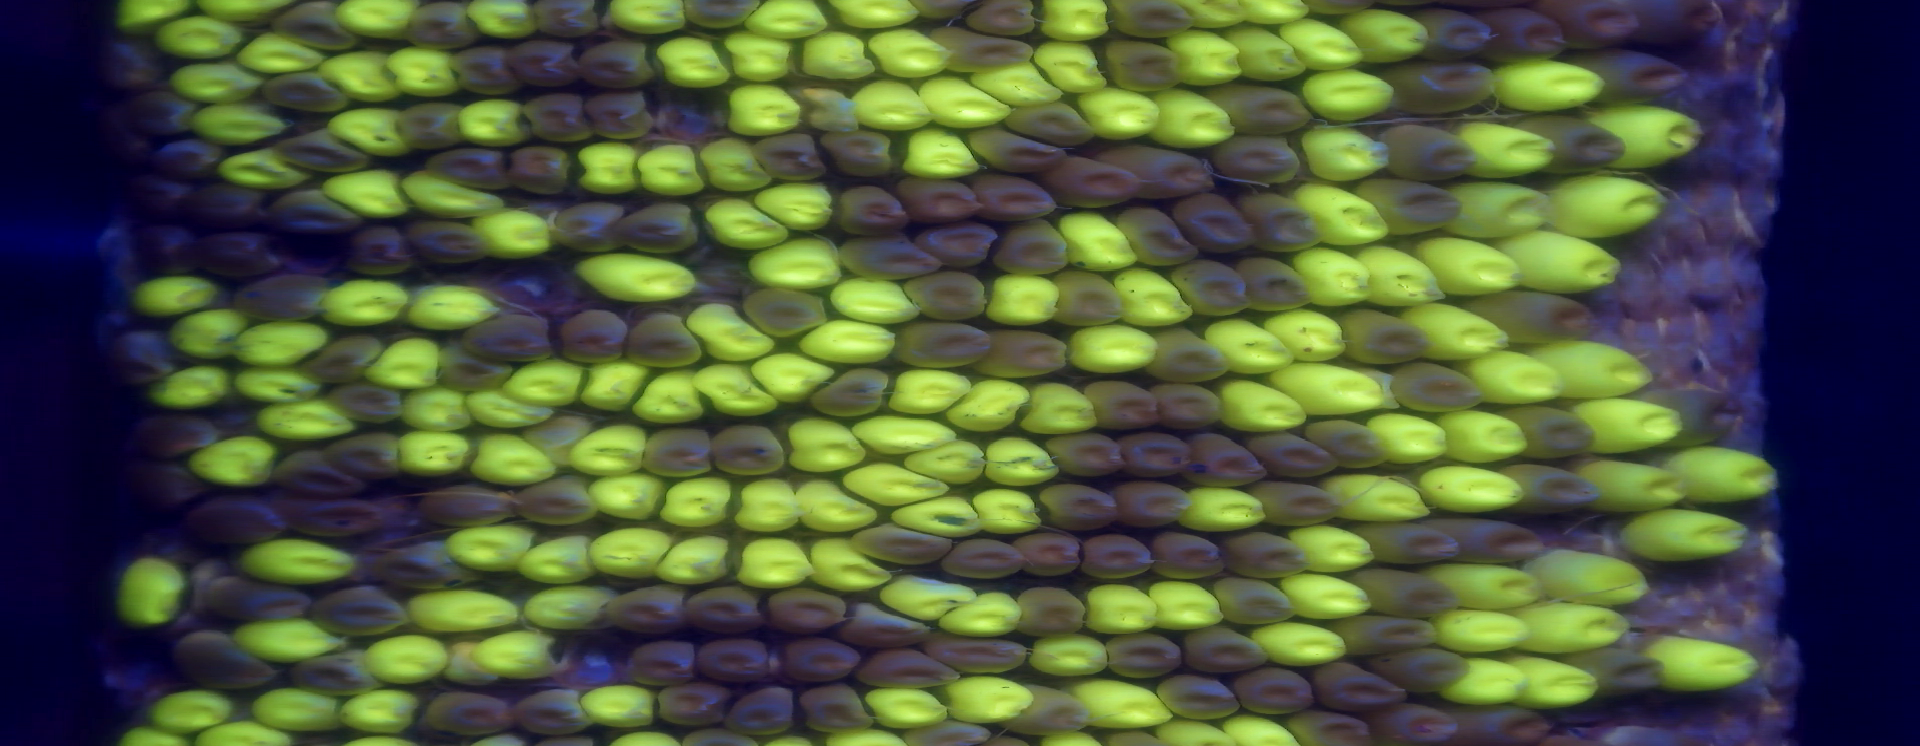fluorescent: (1518, 548, 1654, 614), (1498, 225, 1622, 296), (1658, 443, 1782, 510), (562, 249, 703, 304), (1584, 107, 1703, 171), (1409, 235, 1528, 300), (1615, 512, 1749, 567), (1644, 633, 1763, 695), (1318, 463, 1434, 526), (1269, 359, 1389, 419), (1543, 178, 1660, 239), (1531, 341, 1658, 396), (1291, 183, 1398, 247), (1489, 61, 1614, 116), (1564, 461, 1687, 516), (1400, 298, 1512, 358), (1511, 601, 1631, 658), (1453, 119, 1558, 184), (1424, 560, 1549, 612), (1567, 399, 1686, 454), (1063, 673, 1176, 730), (747, 345, 838, 416), (746, 233, 845, 295), (1445, 183, 1551, 240), (235, 537, 356, 587), (108, 556, 190, 630), (398, 168, 507, 223), (1145, 87, 1239, 149), (1298, 125, 1392, 187), (1283, 521, 1379, 582), (915, 75, 1014, 134), (1357, 245, 1450, 307), (1434, 401, 1527, 463), (801, 312, 898, 372), (362, 333, 448, 401), (398, 588, 525, 633), (1505, 652, 1603, 710), (1457, 352, 1564, 405), (683, 304, 780, 363), (689, 363, 784, 423), (1058, 209, 1145, 274), (1205, 317, 1297, 379), (1416, 461, 1524, 512), (227, 612, 342, 660), (191, 102, 305, 149), (793, 477, 884, 537), (1289, 247, 1381, 306), (1211, 377, 1309, 432), (899, 125, 992, 183), (186, 432, 280, 489), (397, 283, 502, 333), (1224, 23, 1309, 86), (1160, 26, 1245, 87), (1109, 267, 1196, 327), (1427, 608, 1536, 655), (1074, 83, 1162, 142), (965, 62, 1070, 111), (471, 627, 564, 682), (234, 318, 331, 371), (317, 50, 405, 108), (320, 108, 418, 159), (564, 420, 651, 478), (1333, 13, 1433, 64), (1277, 570, 1374, 621), (242, 687, 347, 735), (1270, 307, 1354, 366), (458, 383, 558, 432), (1176, 486, 1273, 537), (853, 414, 959, 461), (473, 431, 556, 490), (1363, 410, 1453, 464), (732, 529, 812, 590), (936, 584, 1024, 639), (141, 363, 238, 413), (1020, 633, 1117, 684), (945, 376, 1026, 436), (585, 526, 675, 579), (851, 81, 938, 136), (844, 464, 947, 511), (444, 521, 538, 572), (320, 278, 411, 330), (942, 676, 1033, 728), (571, 679, 662, 730), (1027, 40, 1109, 98), (811, 532, 889, 592), (359, 633, 452, 684), (1299, 71, 1400, 118), (1247, 622, 1349, 668), (255, 401, 360, 445), (866, 26, 948, 82), (792, 36, 887, 85), (752, 178, 838, 232), (1276, 17, 1365, 69), (877, 576, 972, 624), (984, 271, 1065, 327), (1067, 325, 1167, 370), (628, 143, 710, 198), (722, 82, 804, 137), (503, 356, 585, 412), (889, 370, 972, 424), (1080, 582, 1163, 636), (700, 135, 771, 197), (655, 36, 733, 92), (632, 367, 705, 428), (391, 426, 471, 480), (164, 61, 268, 103), (733, 473, 803, 534), (230, 363, 327, 407), (1022, 379, 1093, 439), (1441, 655, 1526, 706), (588, 472, 670, 523), (736, 1, 831, 45), (705, 195, 785, 247), (1149, 578, 1224, 633), (324, 169, 408, 219), (514, 532, 598, 582), (571, 141, 643, 198), (719, 33, 800, 85), (528, 581, 615, 628), (167, 306, 249, 356), (860, 684, 945, 731), (231, 34, 329, 76), (904, 443, 991, 490), (659, 477, 733, 530), (785, 420, 864, 470), (216, 145, 309, 187), (333, 1, 422, 45), (829, 279, 918, 323), (147, 686, 236, 729), (339, 687, 424, 733), (577, 356, 640, 416), (474, 206, 553, 254), (454, 97, 529, 147), (400, 383, 476, 432), (389, 49, 462, 100), (891, 495, 980, 537), (153, 20, 244, 60), (659, 535, 733, 584), (131, 276, 218, 317), (984, 439, 1057, 488), (1041, 1, 1116, 44), (820, 1, 920, 33), (966, 488, 1035, 532), (103, 1, 193, 34), (605, 1, 696, 34), (467, 1, 545, 37), (192, 720, 296, 746), (1223, 715, 1307, 746), (1180, 1, 1254, 31), (195, 1, 295, 22), (1162, 719, 1233, 746), (1232, 1, 1311, 22)
nonfluorescent: (1468, 283, 1599, 345), (170, 627, 280, 693), (1096, 143, 1216, 202), (1358, 170, 1461, 238), (1516, 111, 1622, 175), (889, 317, 996, 379), (1640, 386, 1747, 446), (1378, 121, 1480, 184), (1332, 303, 1434, 365), (1385, 61, 1498, 118), (1209, 80, 1315, 138), (1500, 405, 1603, 465), (273, 485, 386, 539), (312, 578, 411, 638), (1000, 96, 1108, 151), (198, 570, 311, 622), (1351, 565, 1463, 617), (1502, 457, 1605, 514), (971, 323, 1068, 383), (1351, 517, 1461, 570), (1116, 198, 1195, 271), (1480, 4, 1572, 66), (228, 271, 336, 323), (1438, 514, 1547, 566), (1174, 624, 1273, 680), (1146, 325, 1236, 387), (1311, 659, 1408, 717), (1046, 153, 1140, 212), (184, 492, 287, 546), (1240, 428, 1348, 479), (816, 122, 906, 183), (1629, 1, 1720, 60), (922, 631, 1035, 679), (986, 220, 1075, 281), (1202, 134, 1307, 185), (1567, 650, 1671, 702), (1583, 51, 1692, 100), (1150, 669, 1244, 725), (609, 577, 694, 638), (411, 481, 518, 530), (1007, 680, 1093, 740), (1178, 194, 1258, 258), (921, 24, 1035, 70), (1386, 360, 1484, 413), (1182, 428, 1267, 488), (901, 269, 992, 326), (853, 518, 953, 570), (1227, 663, 1315, 720), (1375, 643, 1471, 696), (1242, 191, 1318, 257), (256, 186, 364, 233), (855, 646, 965, 691), (1036, 479, 1127, 534), (626, 312, 707, 374), (938, 532, 1030, 586), (740, 284, 829, 339), (1300, 416, 1390, 472), (811, 363, 893, 423), (1234, 250, 1311, 314), (1168, 260, 1251, 318), (513, 472, 601, 527), (1411, 10, 1499, 65), (1330, 609, 1440, 653), (272, 2, 369, 53), (1206, 576, 1296, 630), (369, 545, 478, 589), (549, 201, 636, 256), (612, 198, 699, 254), (404, 214, 490, 269), (640, 423, 718, 484), (1102, 36, 1189, 89), (1074, 530, 1161, 584), (1104, 628, 1189, 684), (1220, 530, 1311, 581), (969, 169, 1058, 220), (578, 36, 661, 91), (444, 44, 528, 99), (1453, 704, 1564, 746), (1108, 478, 1195, 530), (1551, 1, 1638, 54), (965, 125, 1071, 168), (126, 409, 220, 457), (272, 450, 371, 495), (836, 238, 944, 279), (1051, 271, 1127, 330), (187, 232, 283, 278), (462, 314, 555, 361), (422, 687, 516, 735), (519, 89, 598, 146), (774, 633, 866, 681), (797, 684, 880, 736), (759, 584, 849, 633), (503, 39, 588, 91), (653, 680, 737, 731), (1089, 376, 1161, 436), (684, 579, 767, 632), (323, 431, 405, 484), (711, 418, 785, 477), (583, 88, 662, 142), (749, 132, 828, 186), (691, 635, 773, 686), (1007, 528, 1089, 579), (1116, 429, 1198, 480), (1149, 530, 1228, 583), (287, 650, 378, 696), (94, 99, 156, 167), (556, 310, 624, 370), (273, 130, 375, 170), (425, 148, 516, 194), (129, 223, 204, 277), (405, 1, 482, 54), (1046, 429, 1123, 481), (307, 333, 388, 383), (1373, 699, 1460, 746), (898, 175, 982, 223), (836, 184, 912, 236), (721, 686, 798, 737), (1011, 589, 1090, 639), (129, 459, 207, 510), (911, 223, 999, 267), (261, 70, 351, 113), (624, 642, 702, 692), (105, 332, 180, 383), (509, 688, 596, 733), (435, 343, 511, 393), (1107, 1, 1195, 44), (845, 601, 936, 643), (1258, 477, 1336, 524), (1149, 382, 1224, 431), (509, 141, 577, 195), (396, 103, 468, 153), (129, 89, 197, 142), (332, 376, 400, 429), (96, 32, 158, 89), (180, 179, 264, 220), (348, 223, 413, 277), (129, 167, 195, 218), (149, 134, 220, 180), (1283, 712, 1378, 746), (528, 1, 606, 42), (959, 1, 1040, 38), (899, 718, 993, 746), (680, 1, 768, 31)
